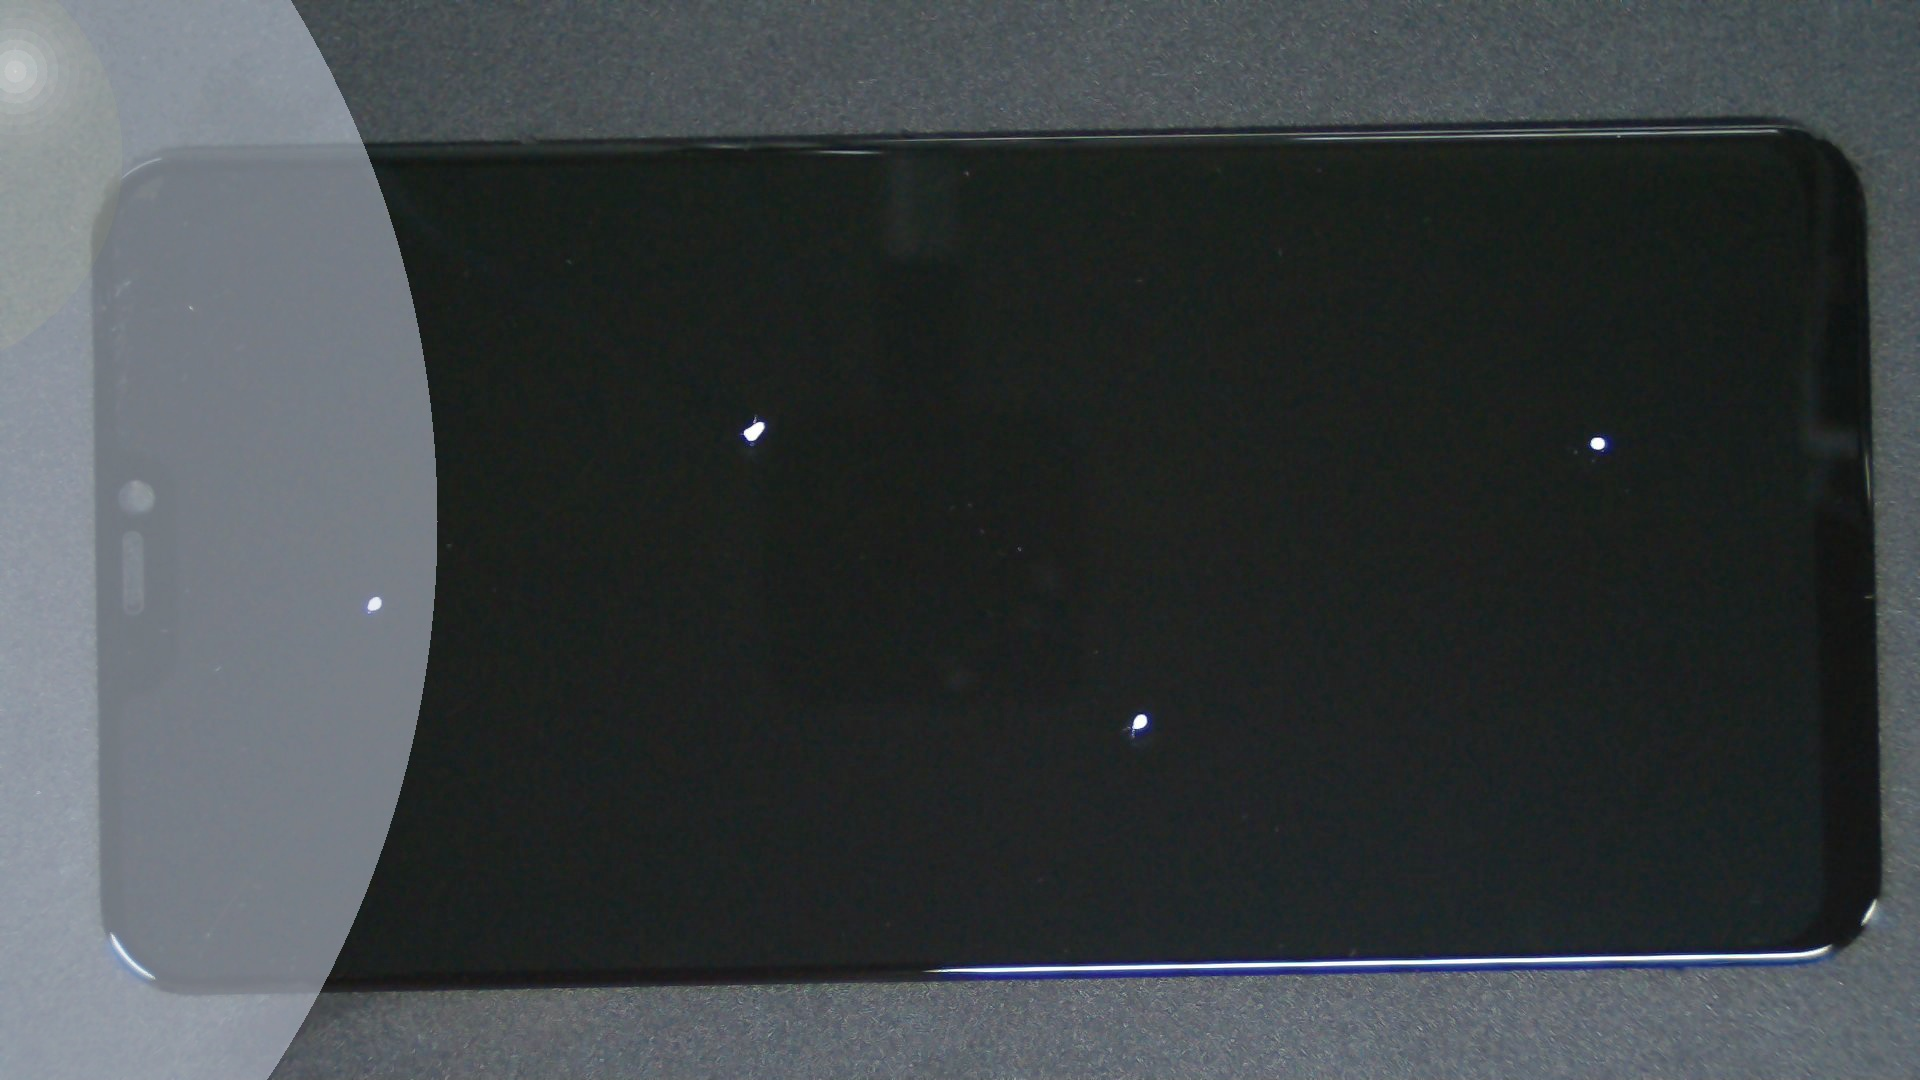oil: (571, 356, 1712, 1068), (802, 218, 1920, 653), (378, 208, 1134, 629), (190, 297, 567, 891)
